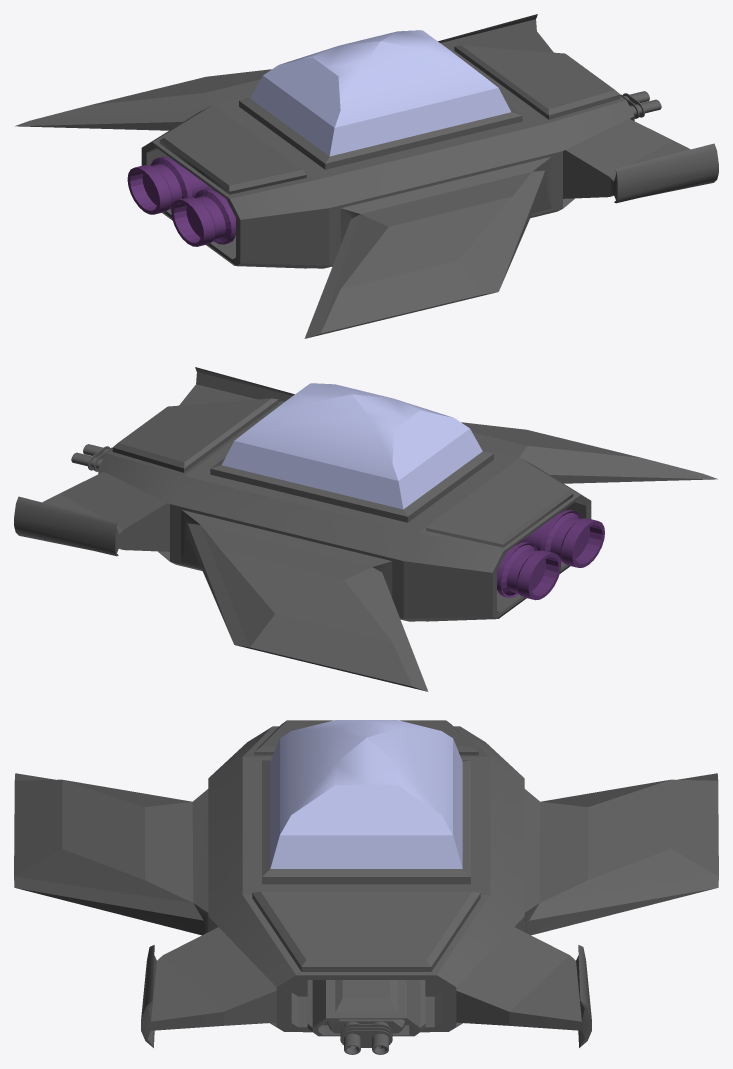
File: Spaceship color.fbx
3 views of the same model, one above another, from view 1: azimuth 30°, elevation 25°; view 2: azimuth 150°, elevation 25°; view 3: azimuth 270°, elevation 25° (orthographic). The views are drawn at different scales.
Parts seen in each view (by area): view 1: polySurface27; view 2: polySurface27; view 3: polySurface27.
Part boxes in pixels (x1,y1,x2,y2): polySurface27: [15, 14, 718, 338]; polySurface27: [14, 367, 717, 691]; polySurface27: [14, 720, 718, 1054].
Bounding box in the file's own units: 16.48 × 5.32 × 16.87.
